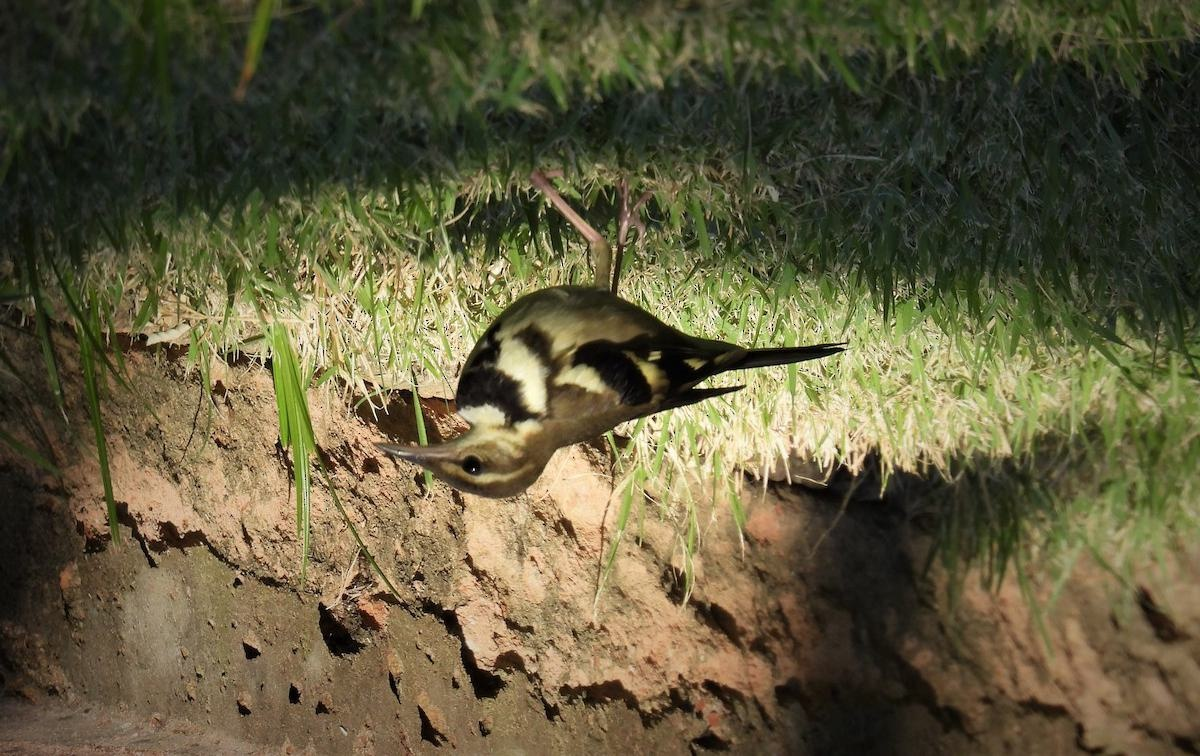wagtail: (415, 264, 757, 493)
